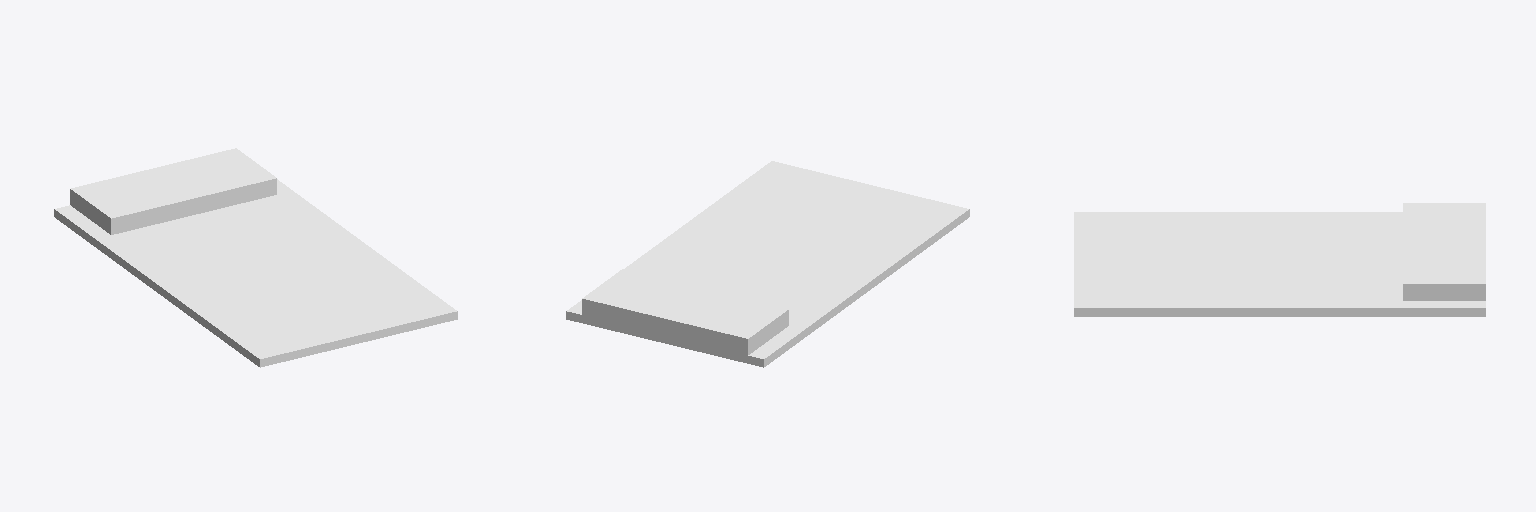
File: bed0.obj
3 renders of one model, left to right at view 1: azimuth 30°, elevation 25°; view 2: azimuth 150°, elevation 25°; view 3: azimuth 270°, elevation 25°, orthographic.
Bounding box in the file's own units: 1.25 × 0.15 × 2.25.